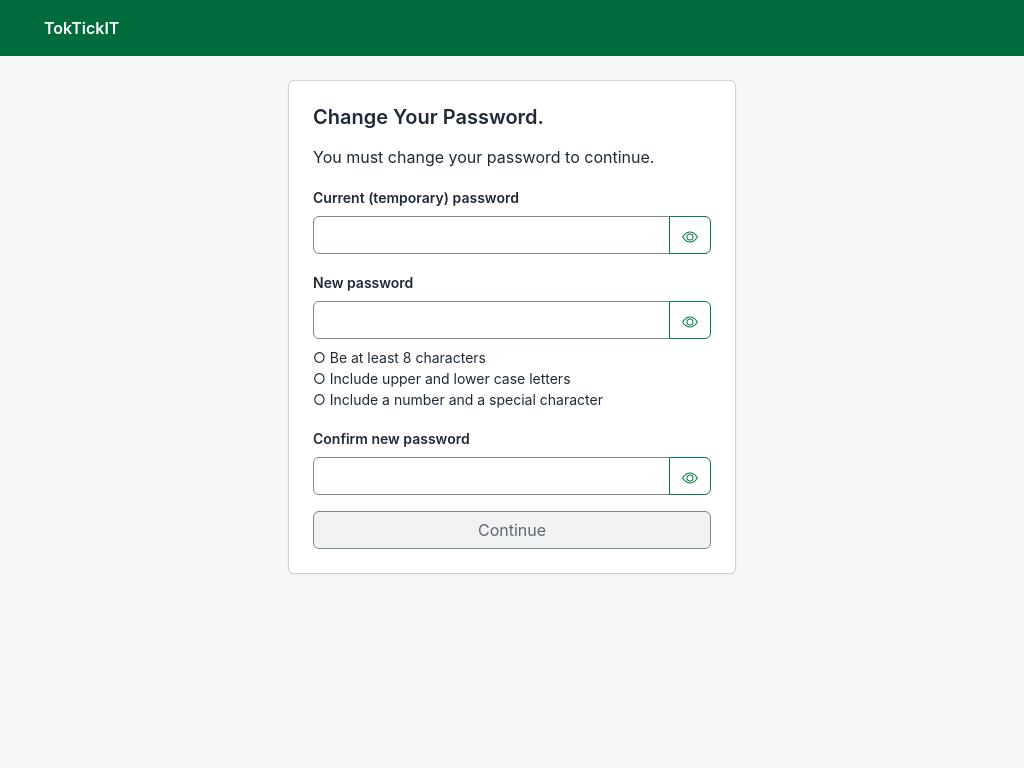
Navigation and post-login landing (ui-spec section 8) › ChangePasswordPage lands the role on its own dashboard after success
Step 1. Type "DevPass123!" into the password field labelled "Current (temporary) password" → {"x": 492, "y": 235}, box [313,216,670,254]
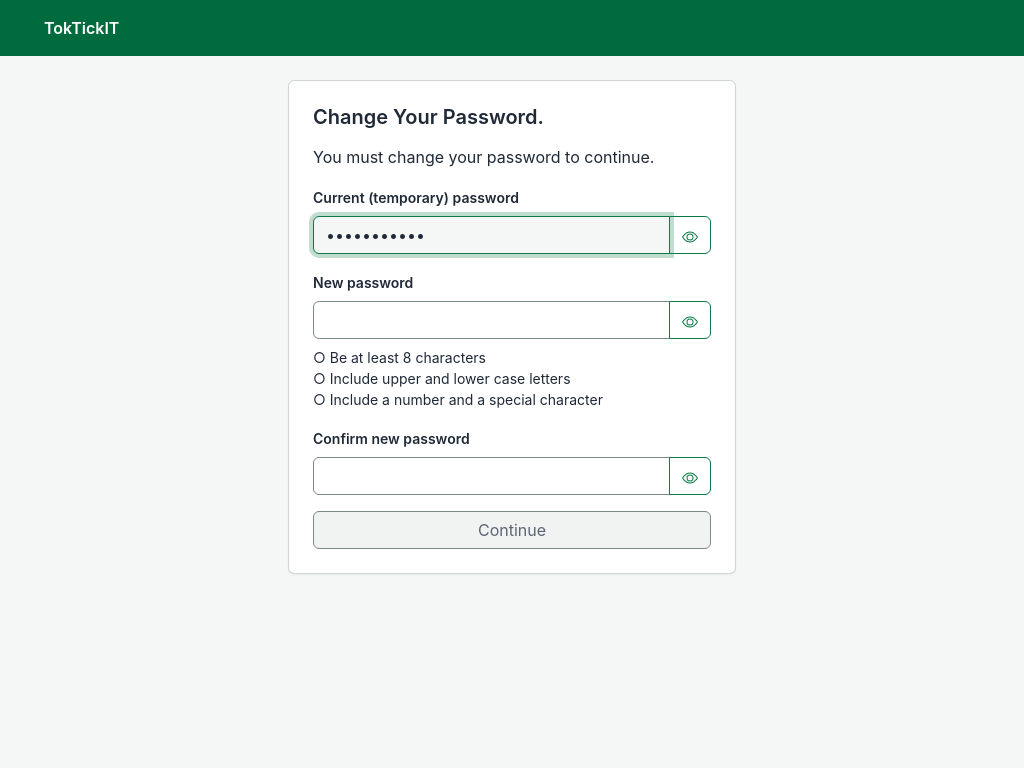
Step 2. Type "NewStrong1!" into the password field labelled "New password" → {"x": 492, "y": 320}, box [313,301,670,339]
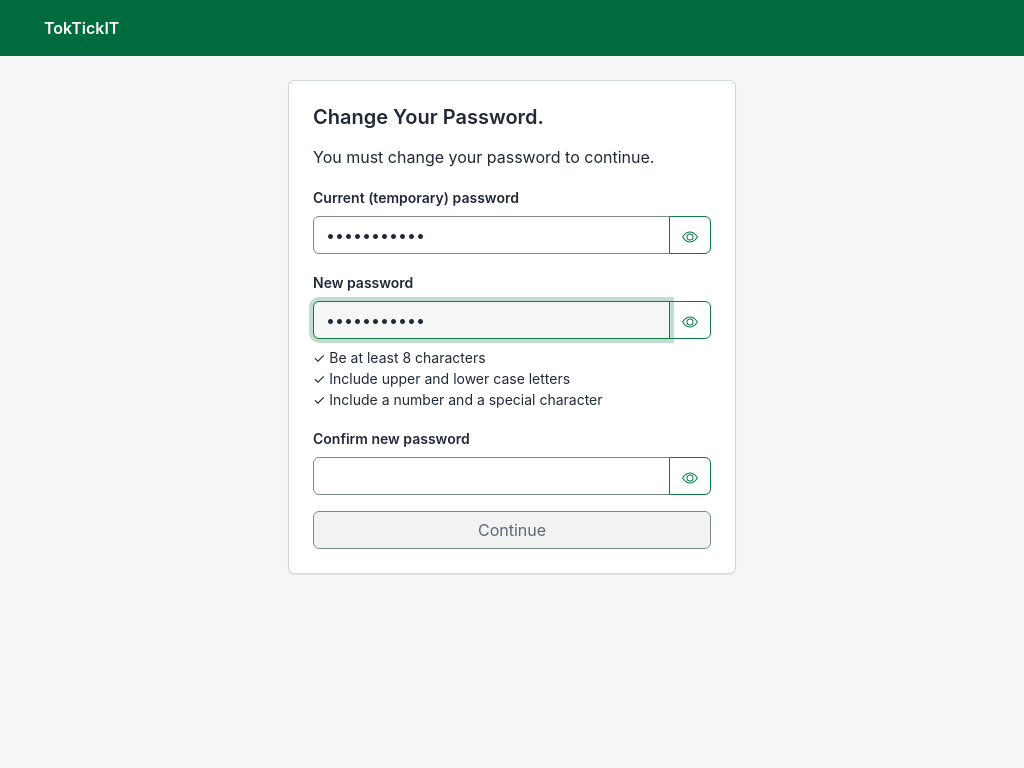
Step 3. Type "NewStrong1!" into the password field labelled "Confirm new password" → {"x": 492, "y": 476}, box [313,457,670,495]
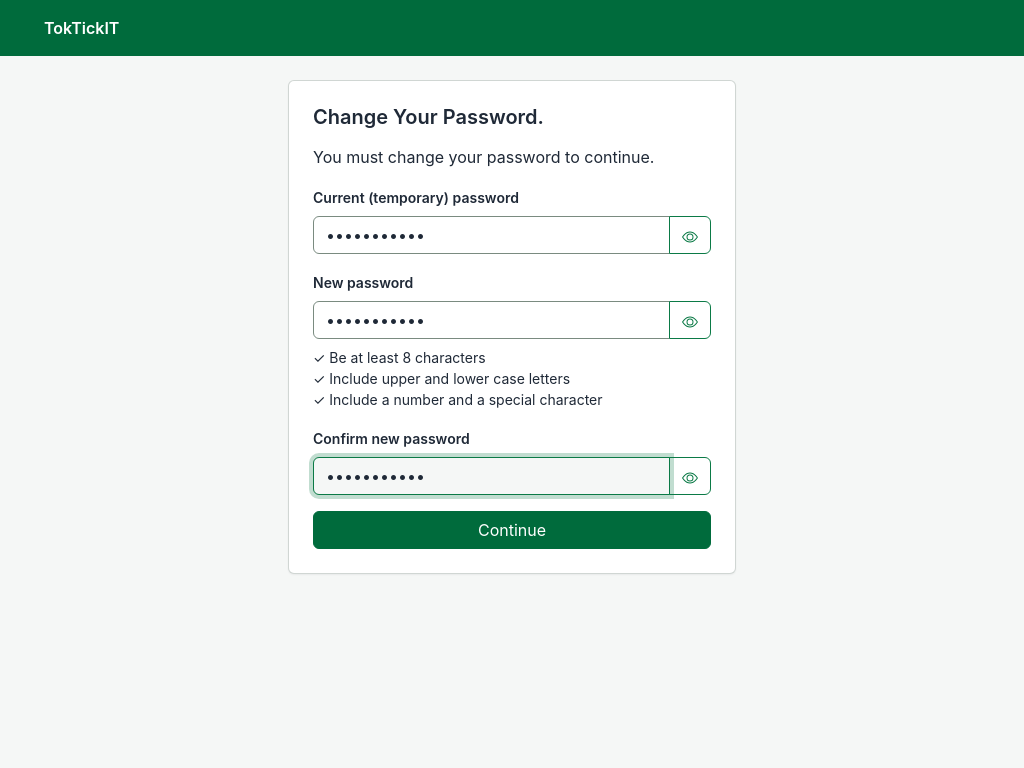
Step 4. Click the button "Continue" → {"x": 512, "y": 530}, box [313,511,711,549]
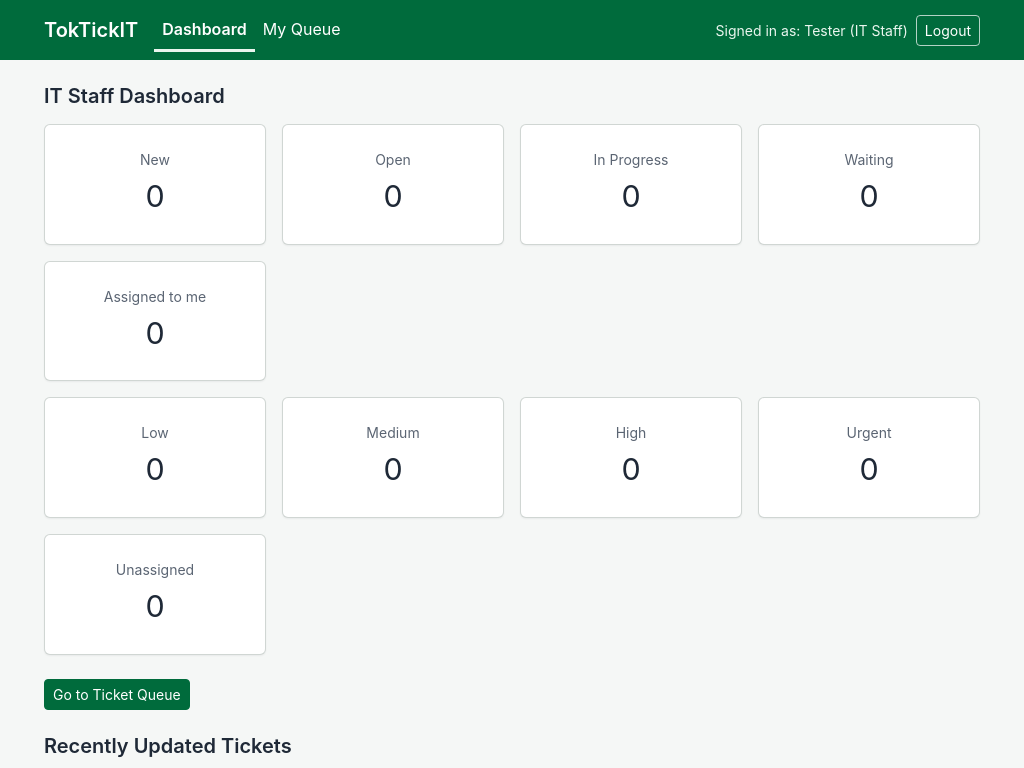
Now the heading "IT Staff Dashboard" is shown, box [44,84,225,108]
